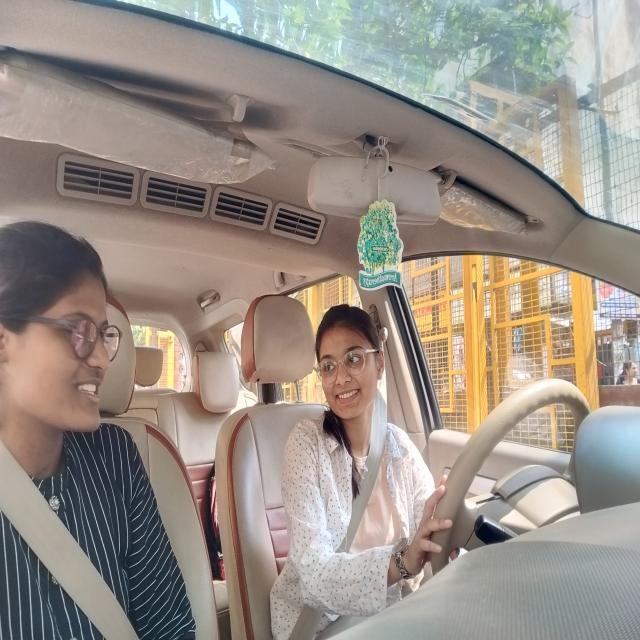LeftRight: (309, 312, 391, 428)
person: (0, 221, 121, 442)
talking: (75, 371, 107, 407), (330, 390, 365, 407)
